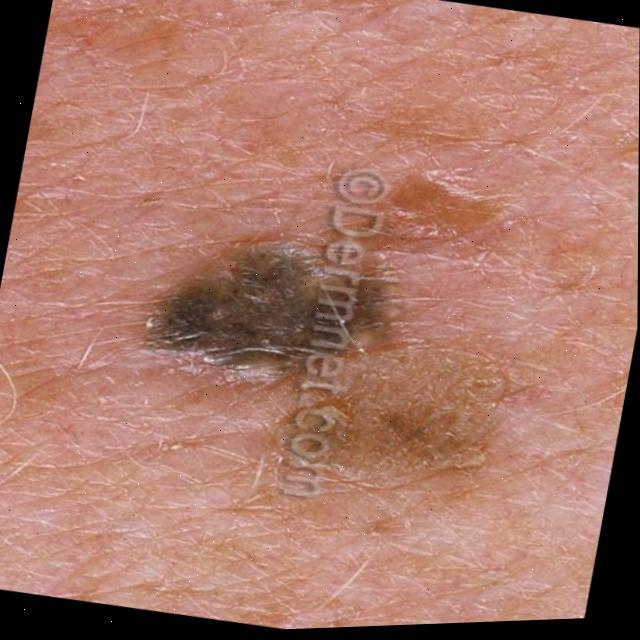Eczema: (69, 84, 582, 554)
